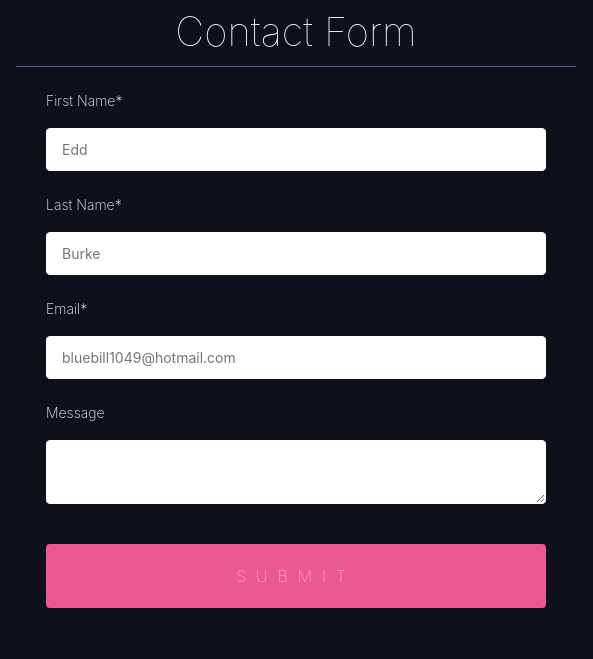
3 renders ONE error message if user enters less then 5 characters into firstname.
In the field labelled "First Name*": (296, 150) [46,128,546,171], type "Ric"
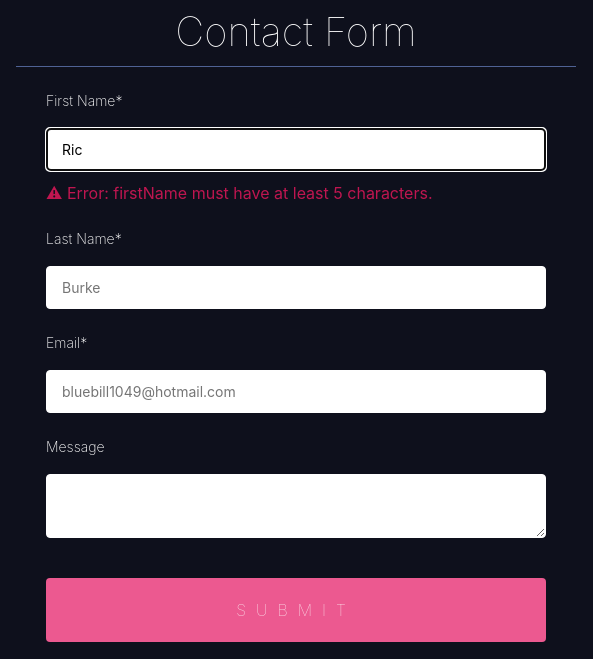
Expected: the text "Error: firstName must have at least 5 characters." is shown once, [67,183,432,203]
